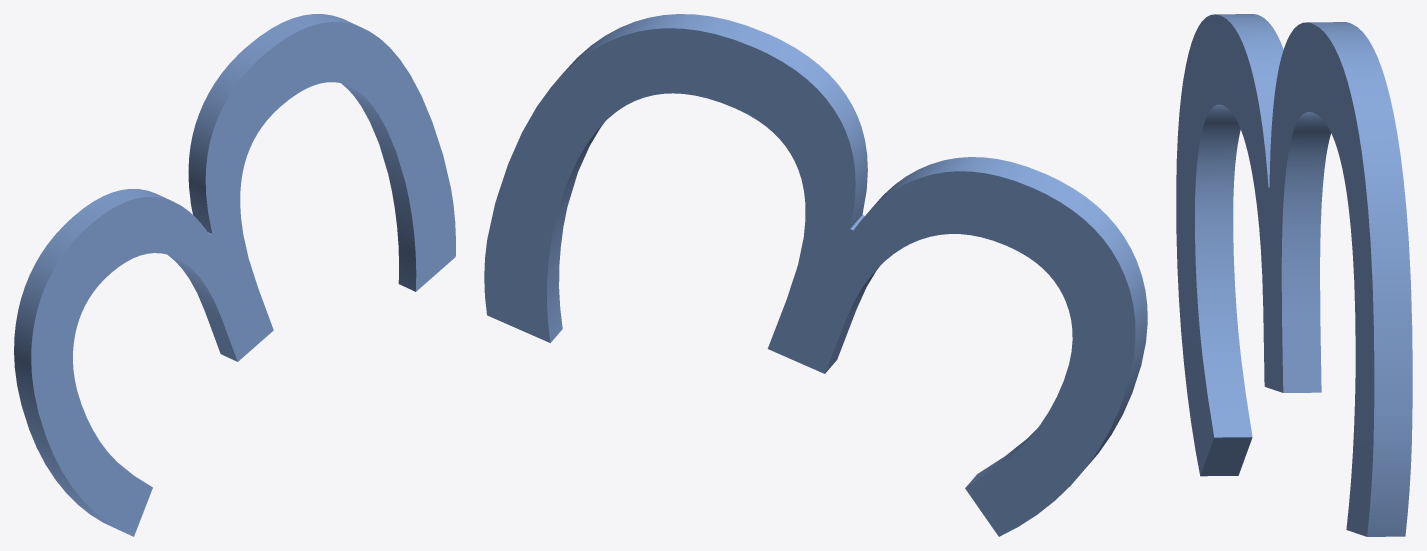
File: New_Number_3.gltf
The picture shows the model from 3 angles, left to right: view 1: azimuth 30°, elevation 25°; view 2: azimuth 150°, elevation 25°; view 3: azimuth 270°, elevation 25°; orthographic projection. The views are drawn at different scales.
Visible parts, largest first — view 1: Part 129; view 2: Part 129; view 3: Part 129.
Boxes of the visible parts, bbox=[...] form: Part 129: bbox=[14, 14, 455, 536]; Part 129: bbox=[484, 14, 1147, 536]; Part 129: bbox=[1176, 14, 1412, 536].
Bounding box in the file's own units: 0.00522 × 0.00424 × 0.00156.
